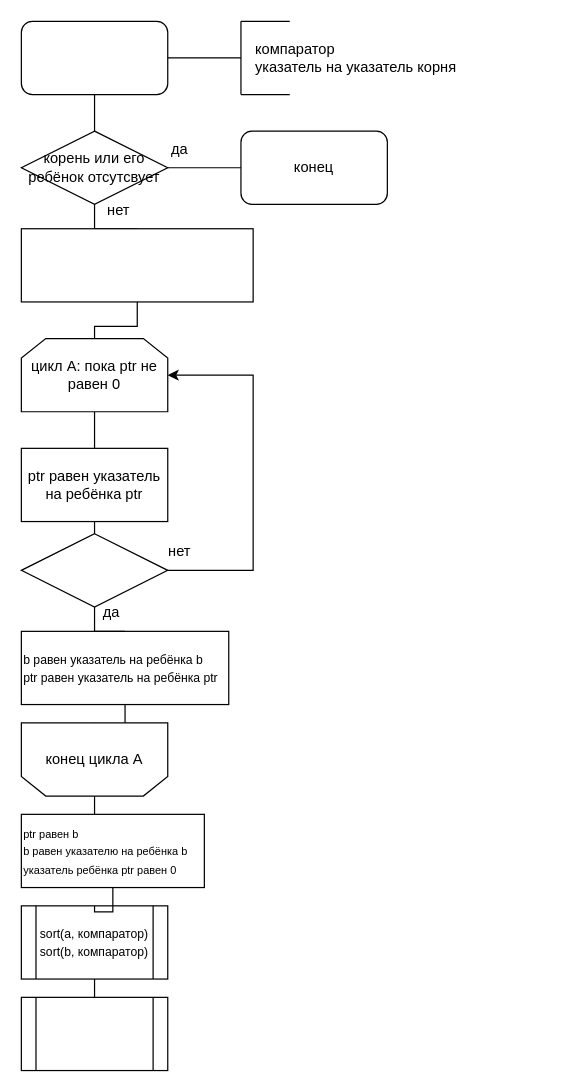
Some shapes in this 567 by 1092 pixel diagram are drawn without their labels. The centre of each missing label's shape, as x and y in pixels:
"a равен указателю на корень b равен a ptr равен указателю на ребёнка корня" belongs at [136,265].
"ptr не равен 0" belongs at [94,570].
"корень равен listMerge(a, b, компаратор)" belongs at [94,1033].
"начало" belongs at [94,57].
